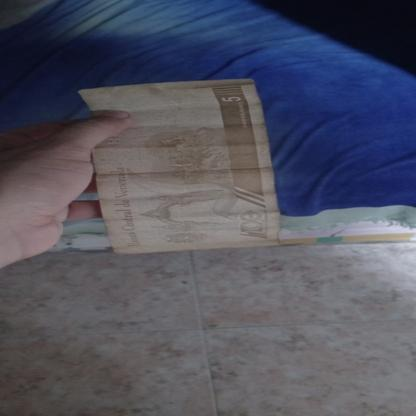five-back-vef: (79, 78, 280, 254)
